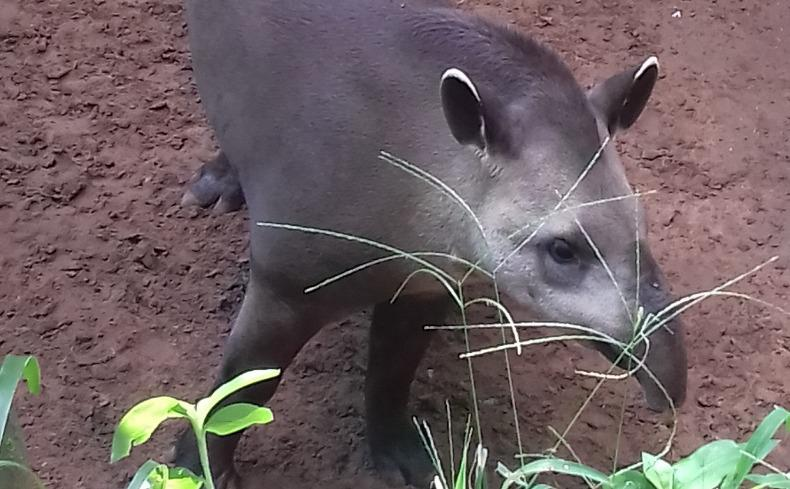Anta: (167, 6, 699, 472)
